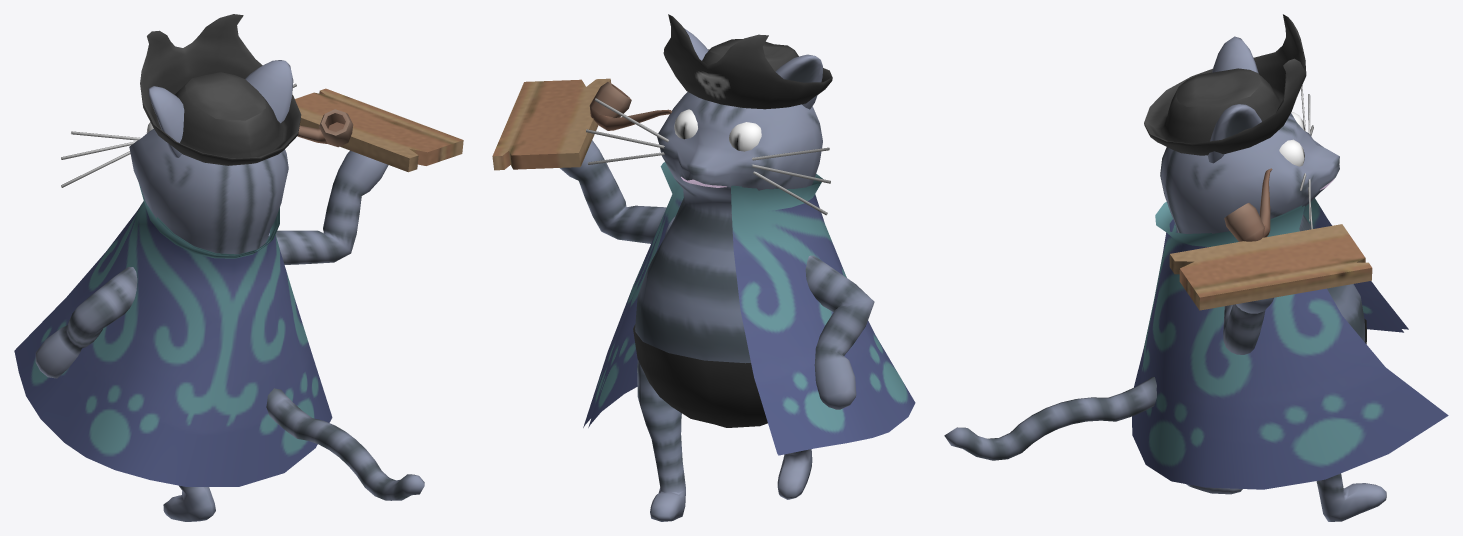
The model's file is neko_walk_c_05.fbx.
The picture shows the model from 3 angles, left to right: view 1: azimuth 30°, elevation 25°; view 2: azimuth 150°, elevation 25°; view 3: azimuth 270°, elevation 25°; orthographic projection. The views are drawn at different scales.
Parts seen in each view (by area): view 1: W_c_05; view 2: W_c_05; view 3: W_c_05.
Boxes of the visible parts, <box> form: W_c_05: <box>14,14,463,521</box>; W_c_05: <box>492,14,915,521</box>; W_c_05: <box>944,14,1448,521</box>.
Size of the model in its own units: 1.65 by 1.93 by 1.86.
1 material, 1 textured.
